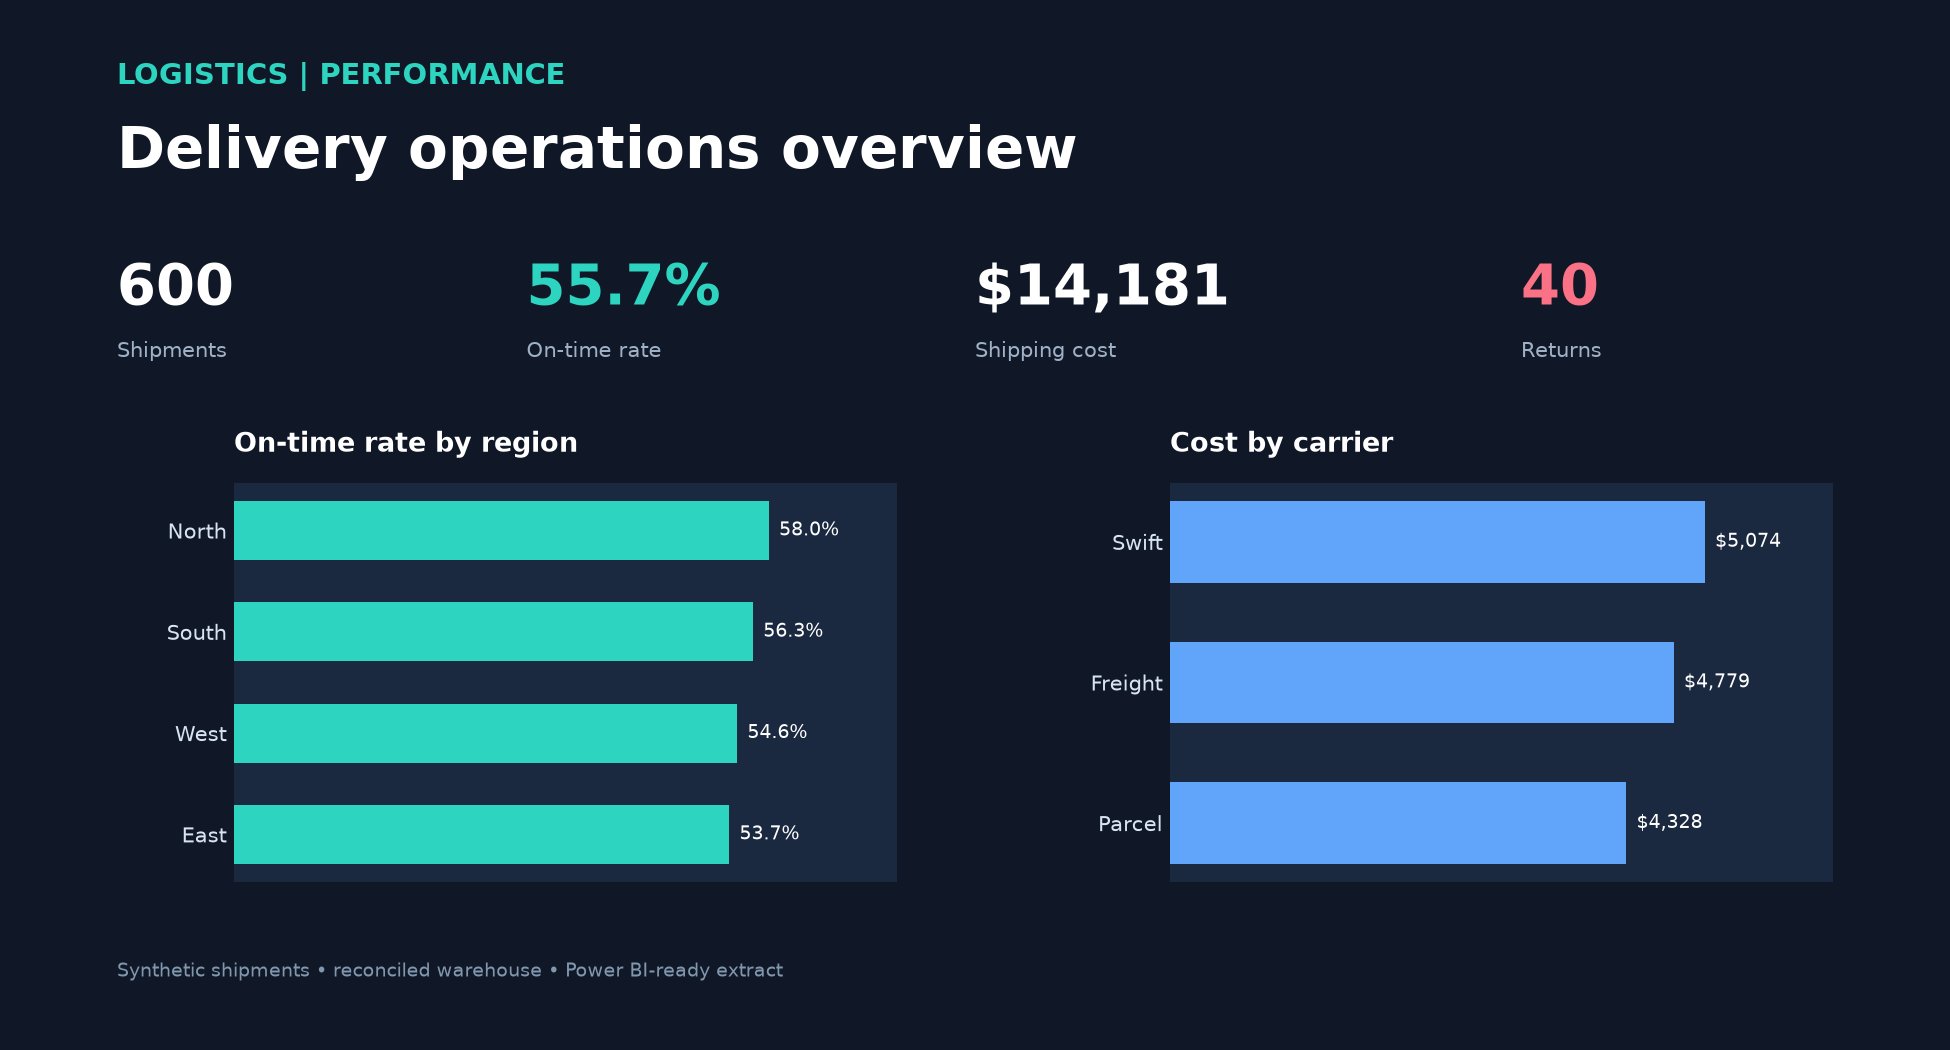

The dashboard page shown, as its layout file describes it:
{"tool":"powerbi","page":{"name":"Logistics Performance","canvas":[1920,1080],"ordinal":0},"visuals":[{"type":"barChart","fields":{"Category":["powerbi_shipments.carrier"],"Y":["powerbi_shipments.Shipping Cost"]},"box":[149.6,518,730,477.8],"z":0},{"type":"cardVisual","fields":{"Data":["powerbi_shipments.Shipment Count","powerbi_shipments.Shipping Cost","powerbi_shipments.Return Count","powerbi_shipments.On-Time %"]},"box":[149.6,140.7,1326.1,299.2],"z":1},{"type":"barChart","fields":{"Category":["powerbi_shipments.region"],"Y":["powerbi_shipments.On-Time %"]},"box":[917.6,518,730,477.8],"z":2}]}

Visuals, with their boxes on the page's 1920x1080 design canvas (x1, y1, x2, y2). These are canvas units, not pixel positions in the 1950x1050 screenshot, which may show the page scaled, cropped or inside an application window:
barChart - powerbi_shipments.carrier x powerbi_shipments.Shipping Cost: locate(150, 518, 880, 996)
cardVisual - powerbi_shipments.Shipment Count x powerbi_shipments.Shipping Cost: locate(150, 141, 1476, 440)
barChart - powerbi_shipments.region x powerbi_shipments.On-Time %: locate(918, 518, 1648, 996)
